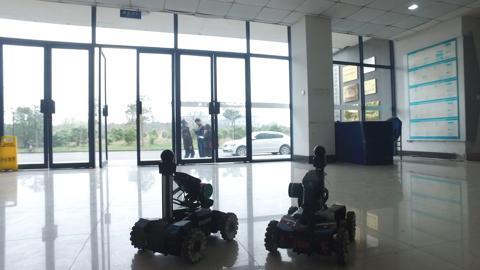chariot: (129, 147, 244, 263), (262, 147, 370, 268)
